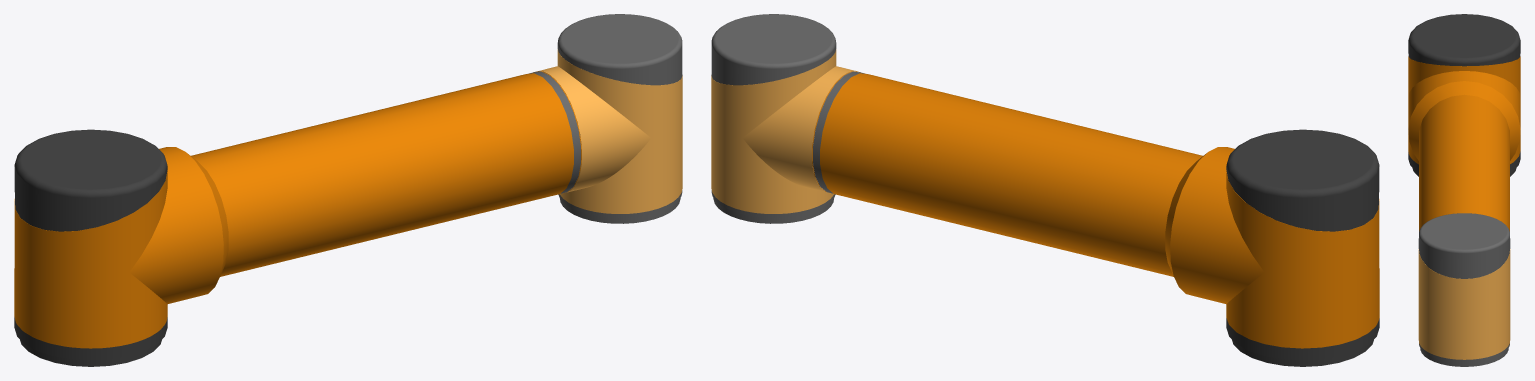
The picture shows the model from 3 angles, left to right: view 1: azimuth 30°, elevation 25°; view 2: azimuth 150°, elevation 25°; view 3: azimuth 270°, elevation 25°; orthographic projection. The views are drawn at different scales.
Parts seen in each view (by area): view 1: i25-1200-FBXASC194FBXASC180FBXASC195FBXASC179FBXASC194FBXASC, i16-ID1-FBXASC194FBXASC188FBXASC195FBXASC178FBXASC194FBXASC1; view 2: i25-1200-FBXASC194FBXASC180FBXASC195FBXASC179FBXASC194FBXASC, i16-ID1-FBXASC194FBXASC188FBXASC195FBXASC178FBXASC194FBXASC1; view 3: i25-1200-FBXASC194FBXASC180FBXASC195FBXASC179FBXASC194FBXASC, i16-ID1-FBXASC194FBXASC188FBXASC195FBXASC178FBXASC194FBXASC1.
Part boxes in pixels (x1=…): i25-1200-FBXASC194FBXASC180FBXASC195FBXASC179FBXASC194FBXASC: x1=14, y1=71, x2=581, y2=366; i16-ID1-FBXASC194FBXASC188FBXASC195FBXASC178FBXASC194FBXASC1: x1=535, y1=14, x2=682, y2=223; i25-1200-FBXASC194FBXASC180FBXASC195FBXASC179FBXASC194FBXASC: x1=812, y1=71, x2=1379, y2=366; i16-ID1-FBXASC194FBXASC188FBXASC195FBXASC178FBXASC194FBXASC1: x1=711, y1=14, x2=858, y2=223; i25-1200-FBXASC194FBXASC180FBXASC195FBXASC179FBXASC194FBXASC: x1=1408, y1=14, x2=1520, y2=231; i16-ID1-FBXASC194FBXASC188FBXASC195FBXASC178FBXASC194FBXASC1: x1=1418, y1=213, x2=1510, y2=366.
Bounding box in the file's own units: 0.9 × 0.184 × 0.234.
